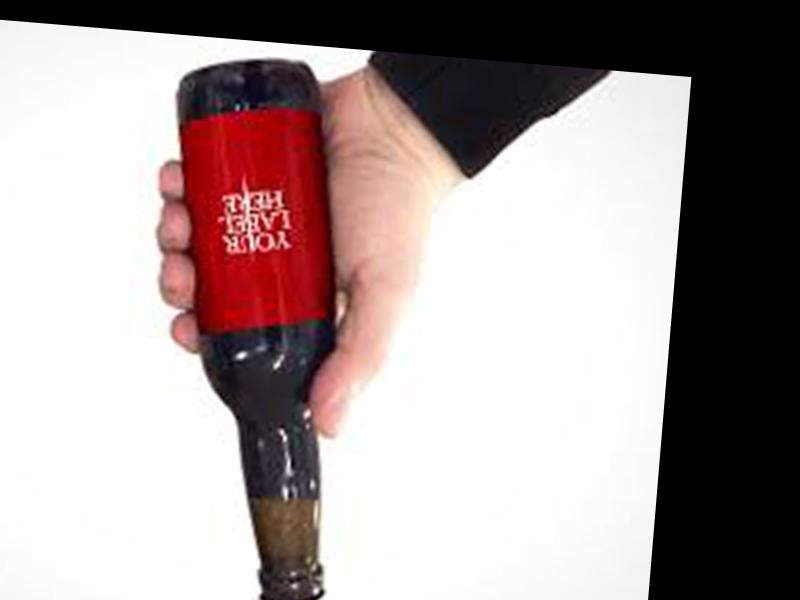Beer: (132, 52, 372, 600)
